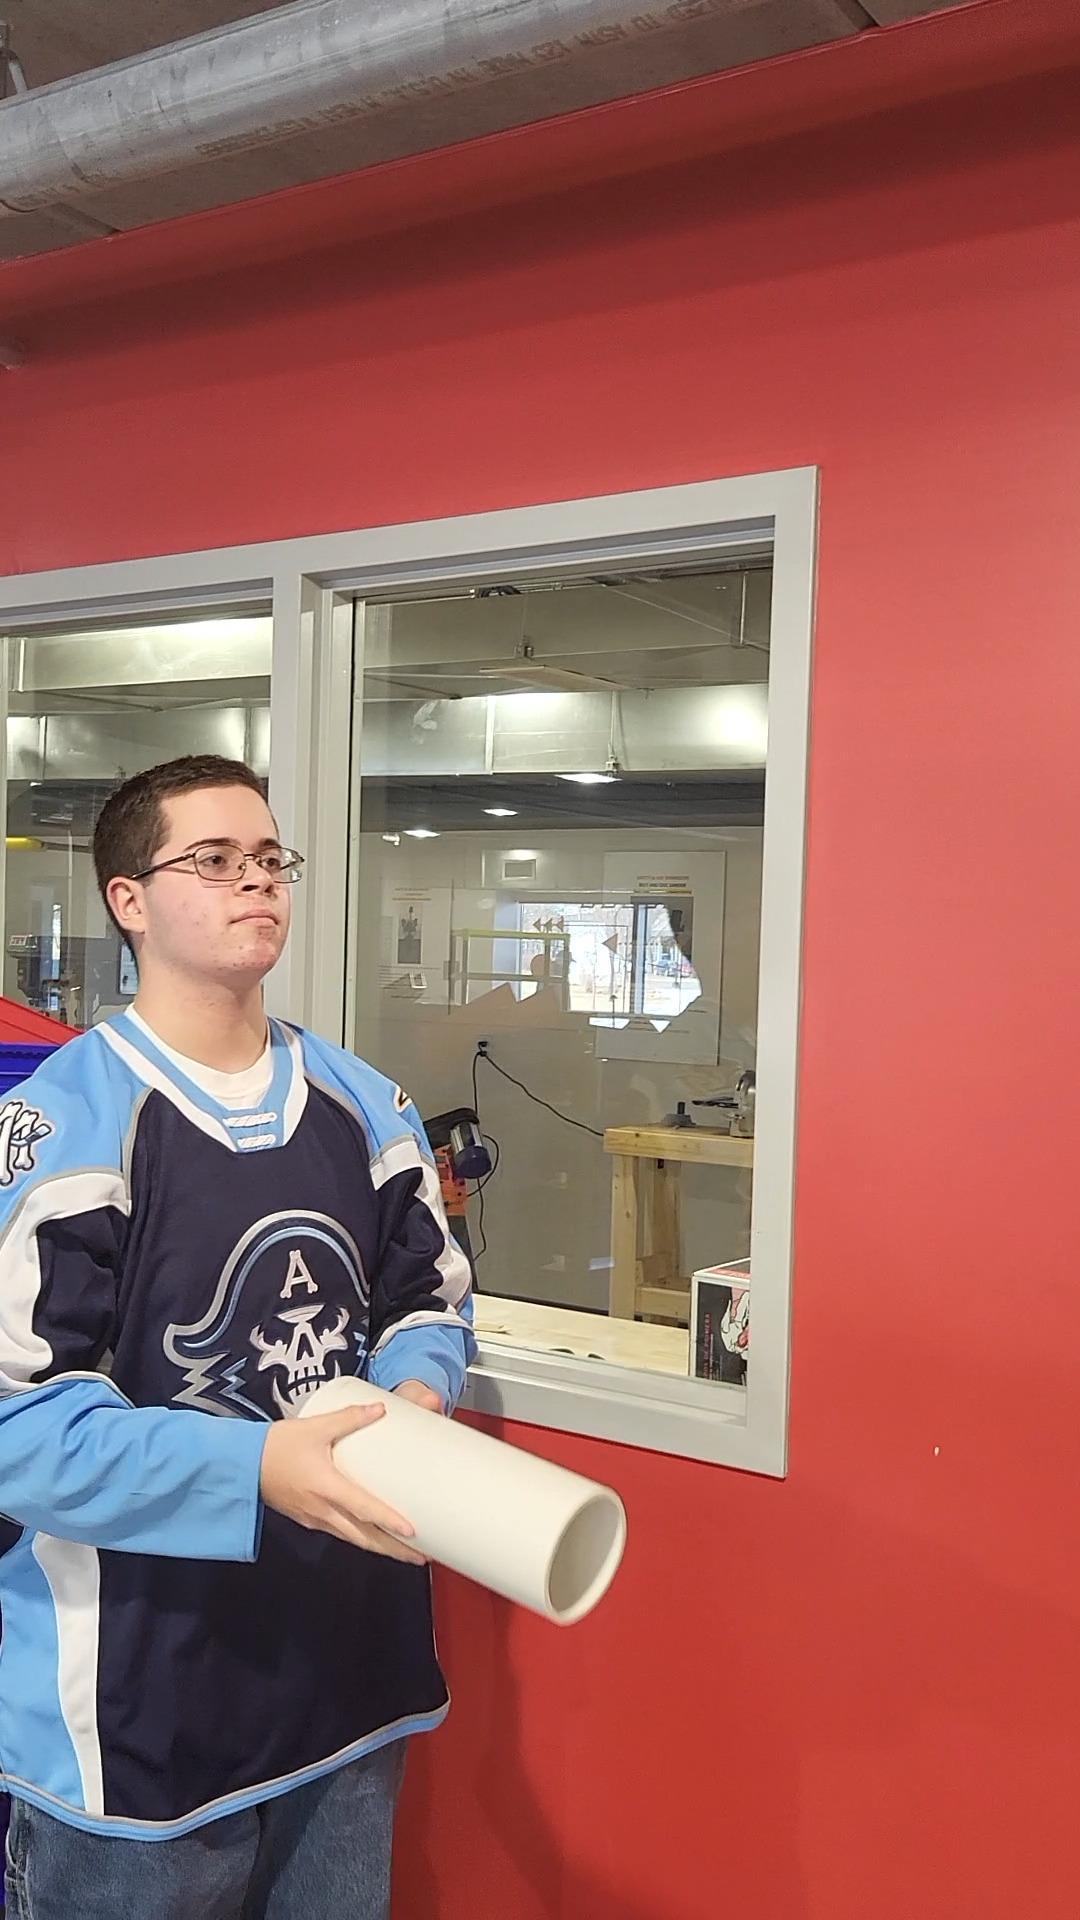coral: (273, 1371, 640, 1630)
